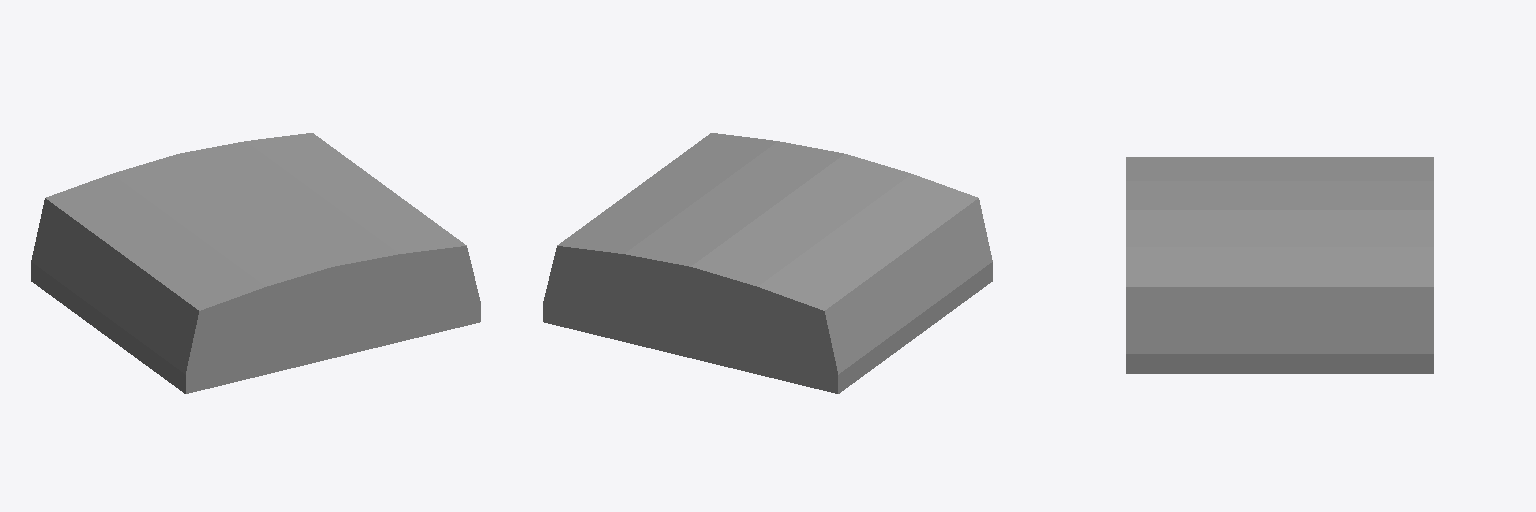
Rendered from mhBase.obj.
The picture shows the model from 3 angles: view 1: azimuth 30°, elevation 25°; view 2: azimuth 150°, elevation 25°; view 3: azimuth 270°, elevation 25°; orthographic projection.
Visible parts, largest first — view 1: Cube.002_Cube.005; view 2: Cube.002_Cube.005; view 3: Cube.002_Cube.005.
Part boxes in pixels (x1,y1,x2,y2): Cube.002_Cube.005: (31,133,480,393); Cube.002_Cube.005: (543,133,992,393); Cube.002_Cube.005: (1126,157,1433,373).
Bounding box in the file's own units: 3.25 × 0.9623 × 2.94.